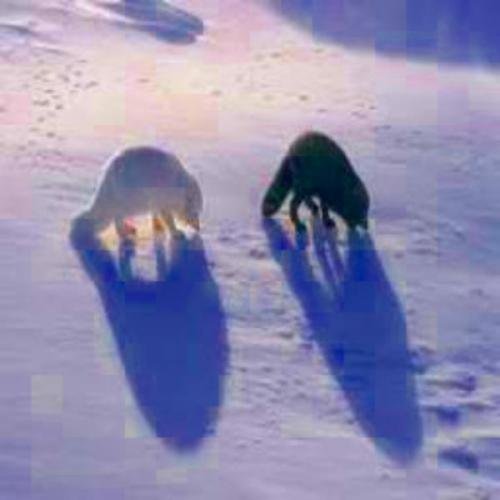arctic_fox-endangered: (75, 149, 203, 234)
